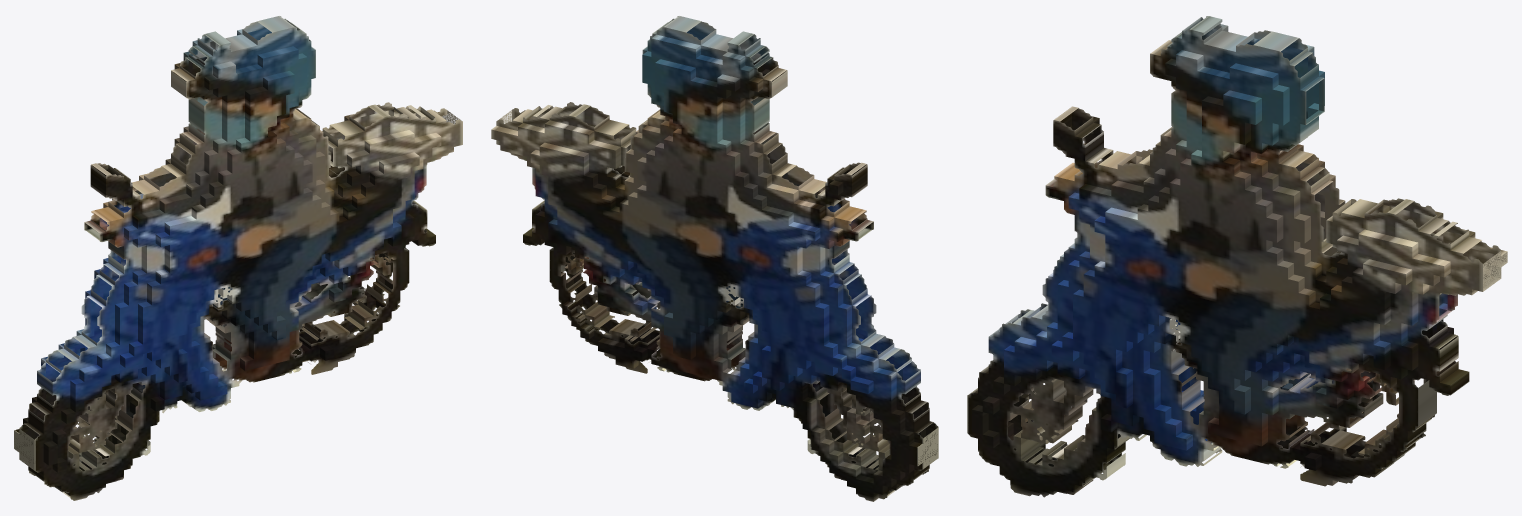
Rendered from npc_bike.glb.
3 views of the same model, side by side, from view 1: azimuth 30°, elevation 25°; view 2: azimuth 150°, elevation 25°; view 3: azimuth 330°, elevation 25° (orthographic). The views are drawn at different scales.
Visible parts, largest first — view 1: npc_bike; view 2: npc_bike; view 3: npc_bike.
Boxes of the visible parts, bbox=[...] form: npc_bike: bbox=[14, 16, 462, 500]; npc_bike: bbox=[491, 16, 938, 501]; npc_bike: bbox=[967, 16, 1507, 497].
Bounding box in the file's own units: 48 × 45 × 7.
Materials: 1 (1 with a texture image).
